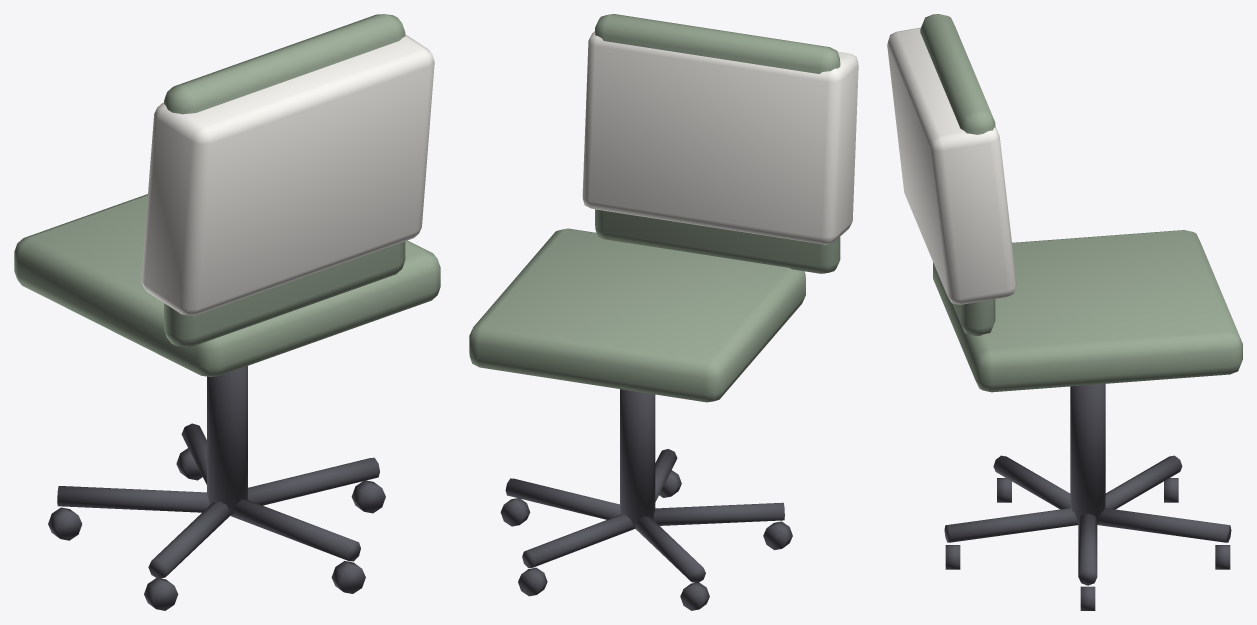
The model's file is Modern_Design_Chair.fbx.
3 renders of one model, left to right at view 1: azimuth 30°, elevation 25°; view 2: azimuth 150°, elevation 25°; view 3: azimuth 270°, elevation 25°, orthographic. The views are drawn at different scales.
Parts seen in each view (by area): view 1: Modern_Design_Chair; view 2: Modern_Design_Chair; view 3: Modern_Design_Chair.
Part boxes in pixels (left/top/right/bottom): Modern_Design_Chair: left=14, top=14, right=440, bottom=610; Modern_Design_Chair: left=469, top=14, right=858, bottom=610; Modern_Design_Chair: left=887, top=14, right=1242, bottom=610.
Bounding box in the file's own units: 52.81 × 89.7 × 60.17.
